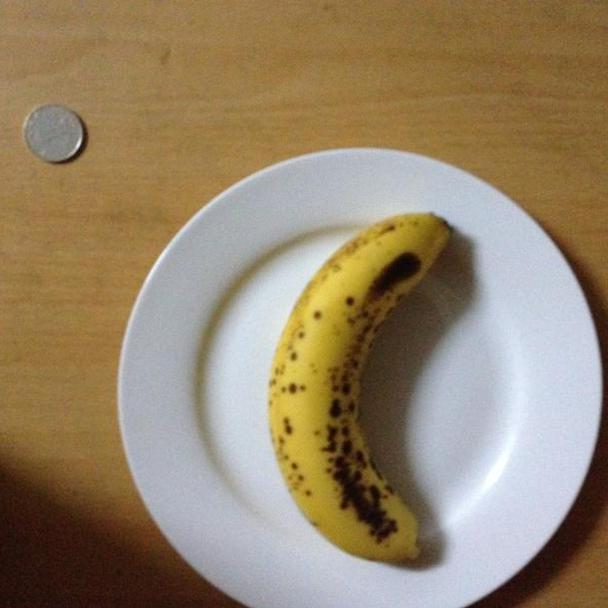banana: (266, 208, 458, 563)
